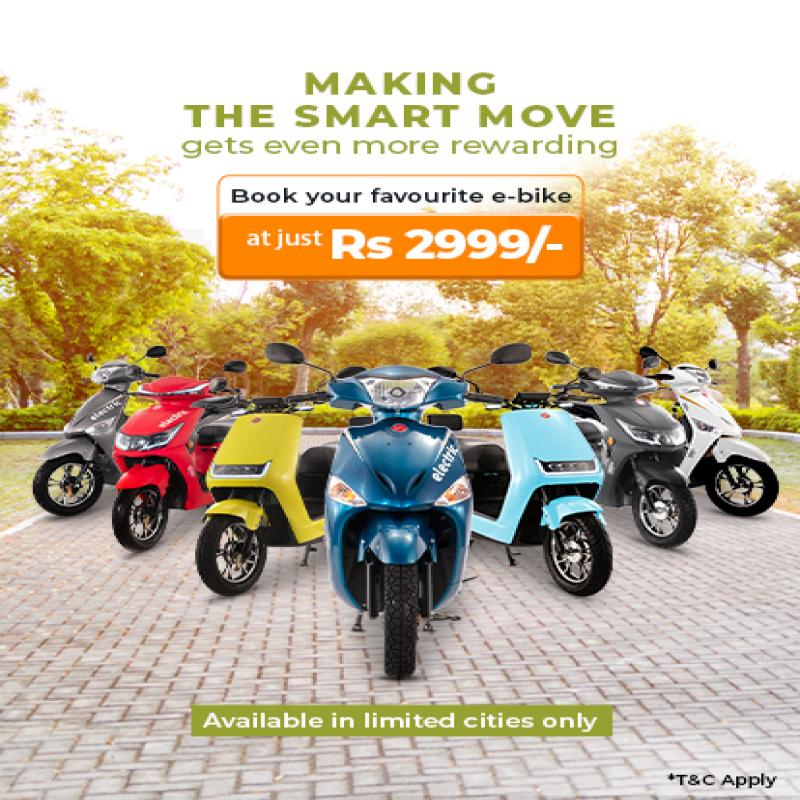bike: (274, 316, 504, 670), (460, 336, 621, 600), (206, 379, 363, 599), (553, 350, 706, 551), (644, 344, 788, 525), (114, 355, 234, 549), (41, 342, 155, 518)
